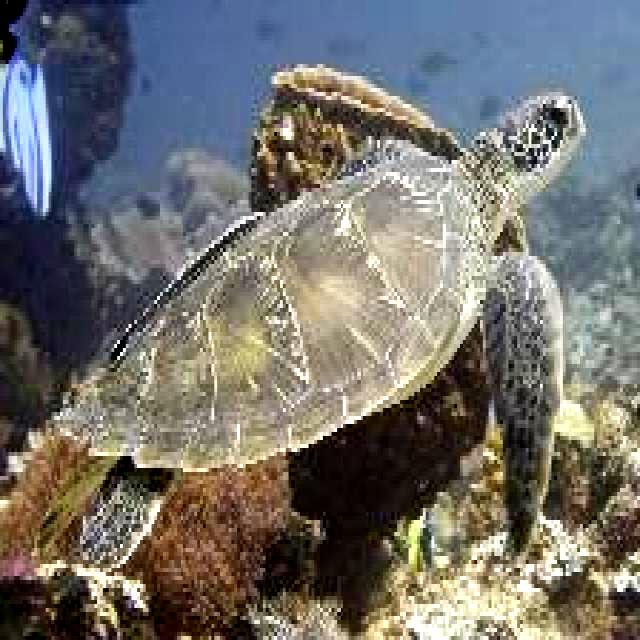Sea turtle: (57, 82, 591, 585)
